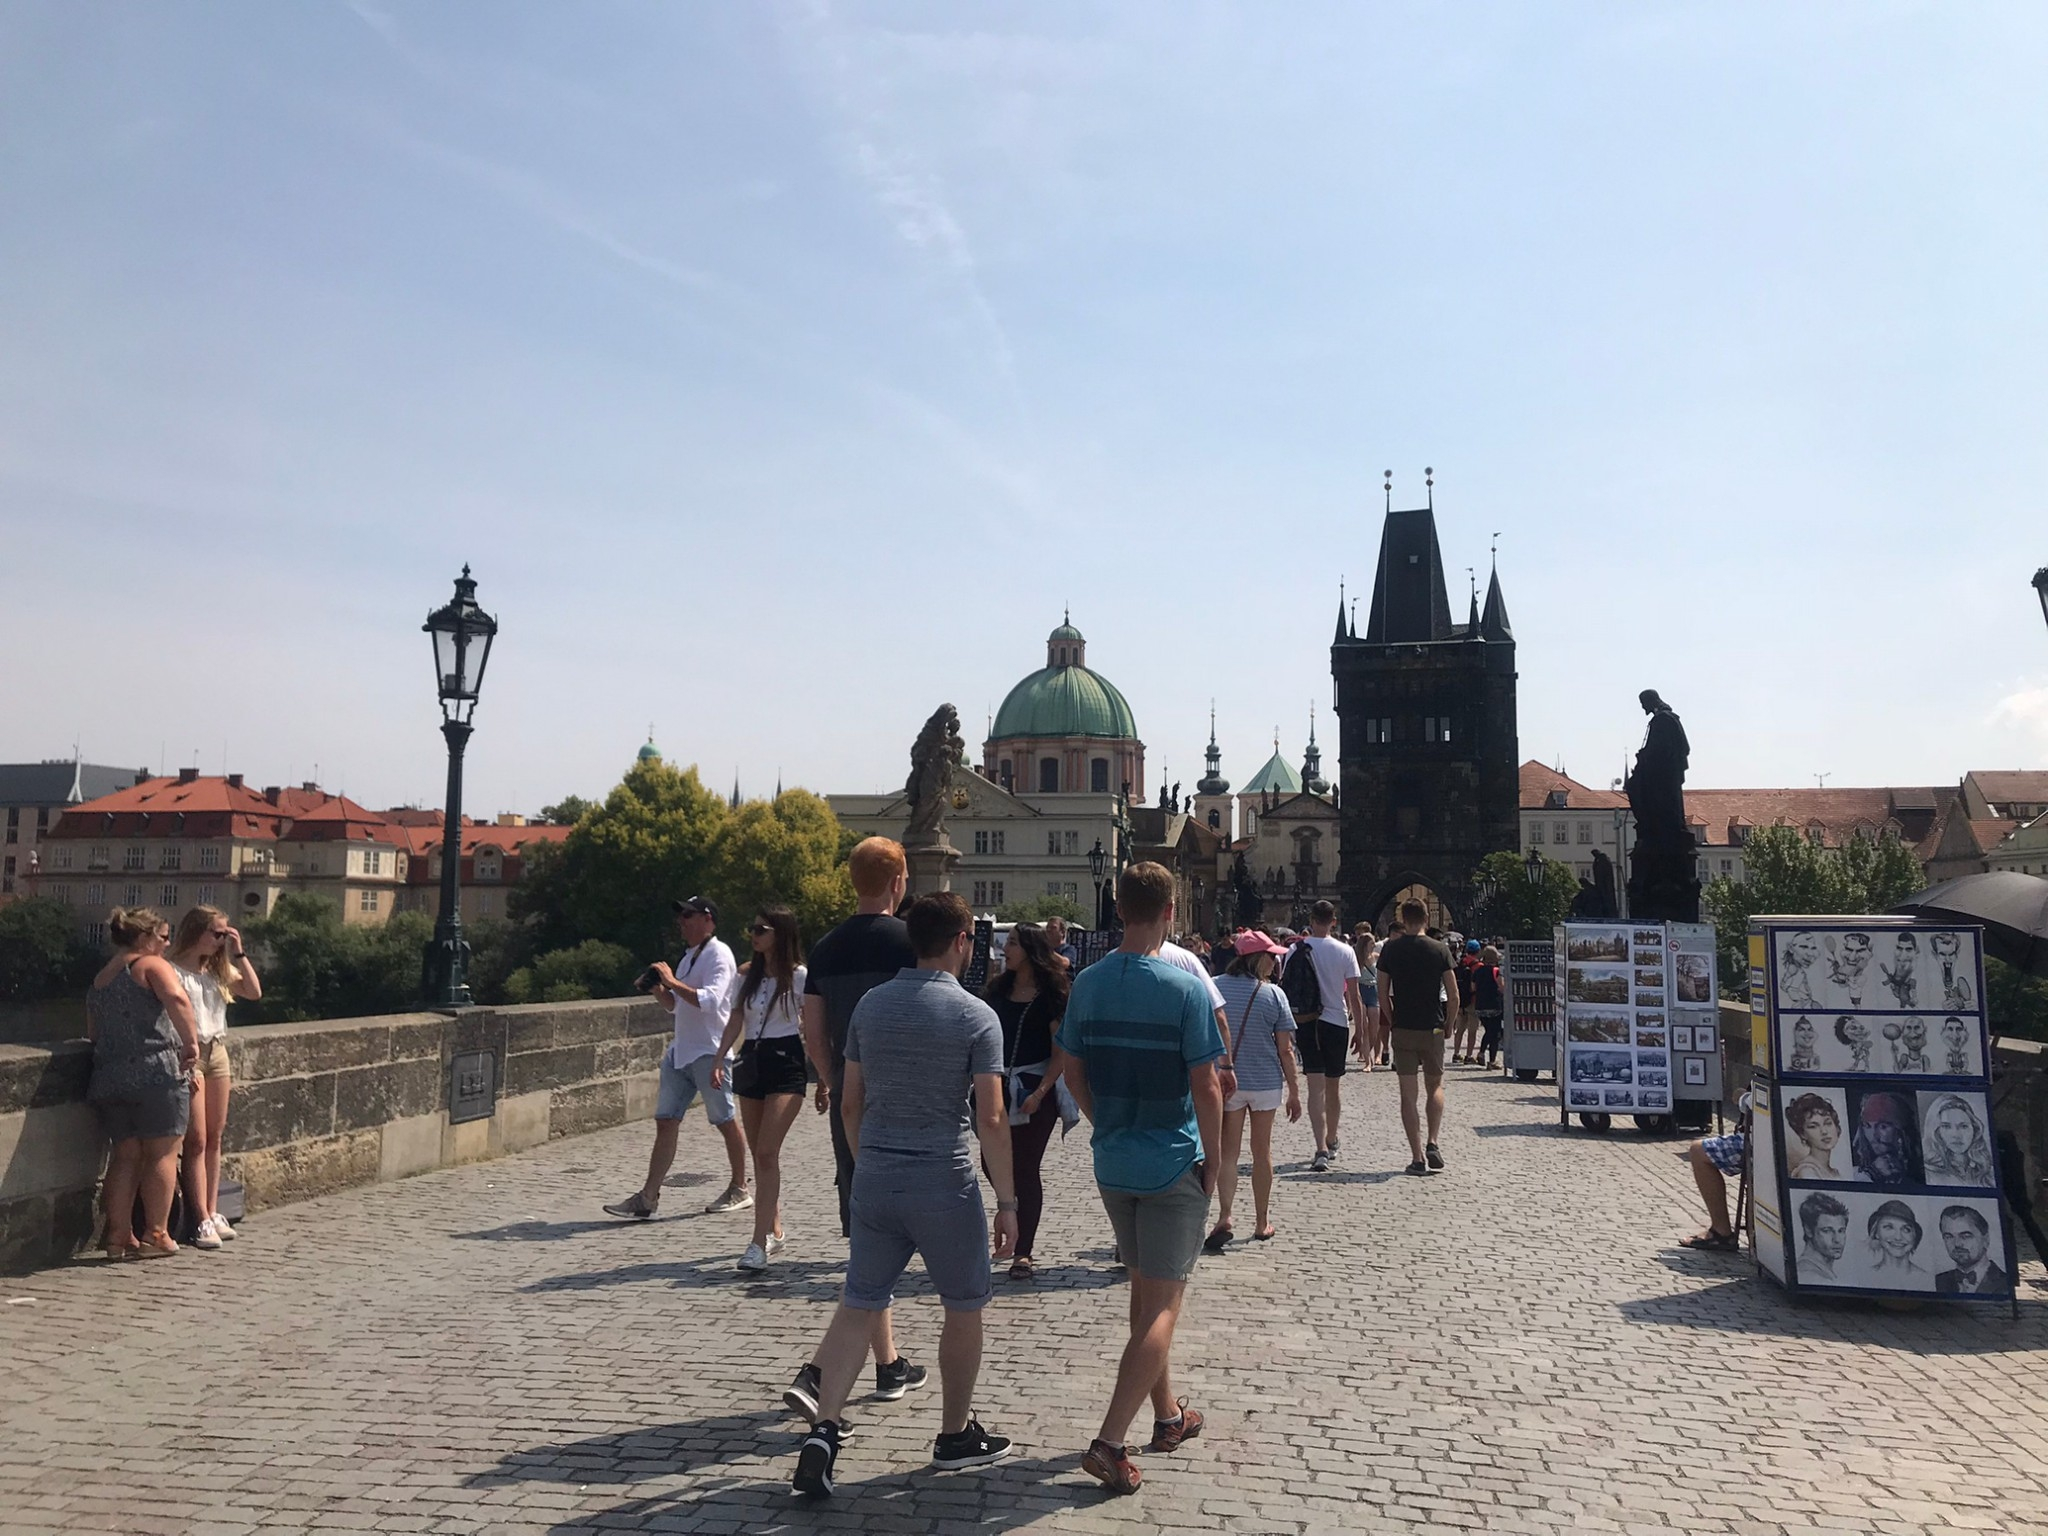people: (1084, 858, 1219, 1505), (866, 896, 1007, 1463), (813, 831, 913, 1260), (640, 893, 760, 1225), (725, 905, 831, 1275), (169, 899, 252, 1260), (99, 910, 178, 1269), (1216, 928, 1293, 1252), (999, 922, 1069, 1275), (1378, 887, 1466, 1172), (1296, 899, 1360, 1187), (1684, 1069, 1784, 1249), (1349, 931, 1390, 1066), (1481, 937, 1513, 1046), (1454, 931, 1484, 1031)
